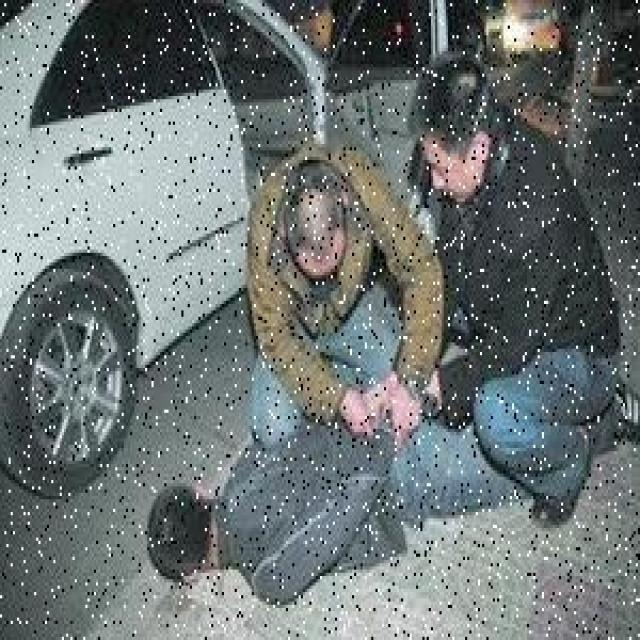fall: (145, 381, 446, 598)
